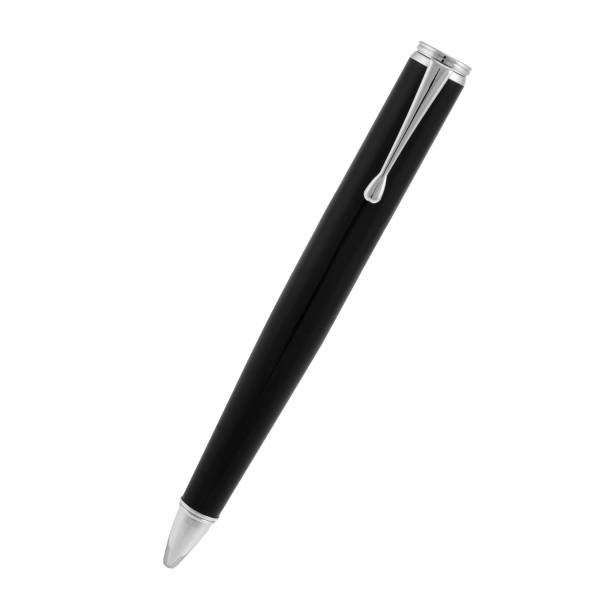pen: (151, 34, 481, 583)
